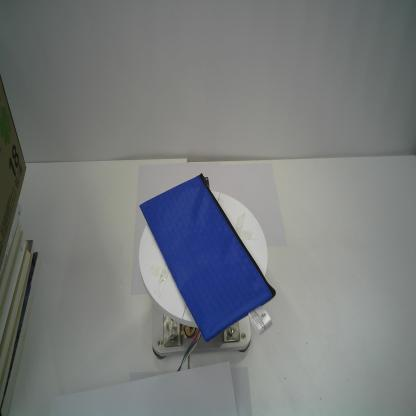Stationery: (139, 171, 277, 343)
